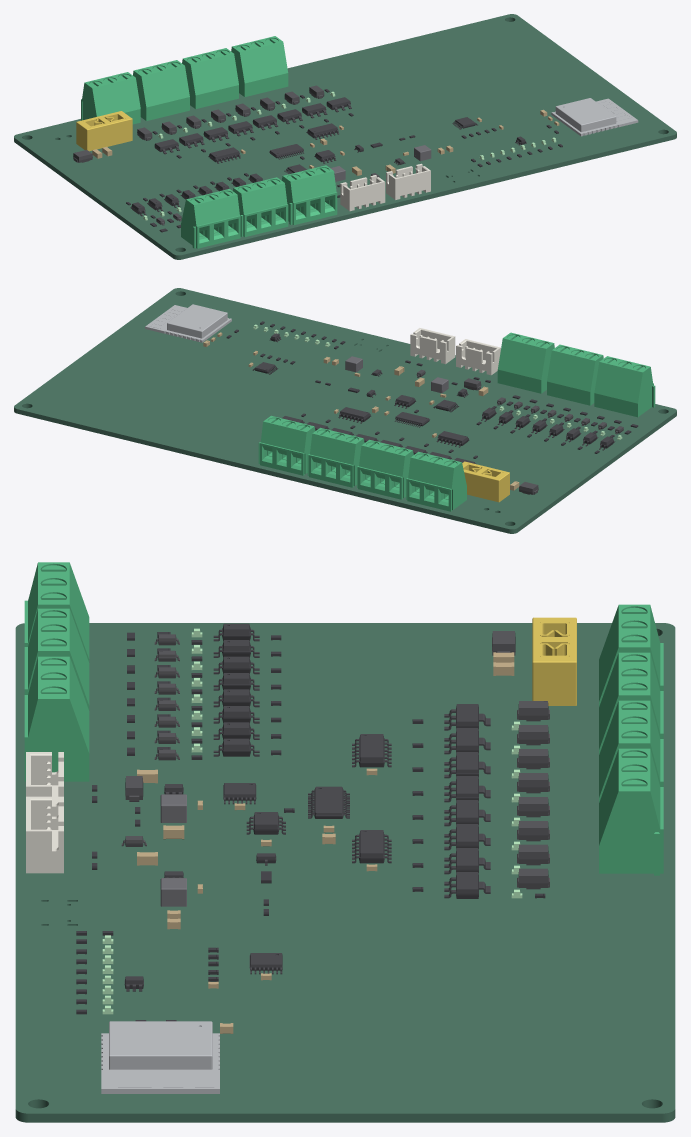
File: AP_LED8.fbx
3 renders of one model, top to bottom at view 1: azimuth 30°, elevation 25°; view 2: azimuth 150°, elevation 25°; view 3: azimuth 270°, elevation 25°, orthographic. The views are drawn at different scales.
Visible parts, largest first — view 1: =>[0:1:1:26], J3, J9, J7, J8, J5, J4, J6, U3, F1, JL1, JL2; view 2: =>[0:1:1:26], J3, J6, J5, J9, J8, J4, J7, U3, F1, JL2, JL1; view 3: =>[0:1:1:26], U3, J9, J5, F1, J4, J8, J7, J6, J3, JL2, JL1 (+11 smaller).
Part boxes in pixels (x1,y1,x2,y2): =>[0:1:1:26]: (14, 14, 676, 259); J3: (181, 189, 240, 248); J9: (231, 36, 288, 96); J7: (133, 60, 189, 120); J8: (182, 48, 238, 109); J5: (281, 165, 337, 225); J4: (233, 177, 288, 237); J6: (81, 72, 140, 124); U3: (551, 98, 638, 136); F1: (76, 111, 132, 151); JL1: (340, 175, 385, 211); JL2: (386, 163, 430, 199); =>[0:1:1:26]: (14, 288, 676, 533); J3: (594, 356, 655, 417); J6: (406, 451, 466, 511); J5: (497, 332, 554, 393); J9: (258, 415, 315, 475); J8: (307, 427, 364, 487); J4: (547, 344, 603, 405); J7: (357, 439, 413, 499); U3: (145, 304, 231, 342); F1: (462, 461, 509, 502); JL2: (410, 328, 455, 364); JL1: (456, 339, 500, 375); =>[0:1:1:26]: (15, 623, 675, 1122); U3: (101, 1021, 219, 1093); J9: (599, 748, 663, 875); J5: (24, 656, 89, 781); F1: (532, 617, 576, 705); J4: (24, 608, 89, 710); J8: (599, 700, 663, 802); J7: (599, 652, 663, 754); J6: (599, 604, 663, 706); J3: (24, 562, 89, 662); JL2: (26, 796, 63, 873); JL1: (26, 752, 63, 816).
Size of the model in its own units: 17.6 by 1.73 by 10.
